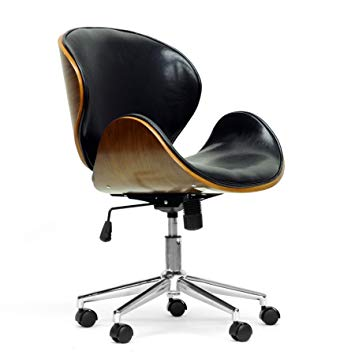chairs: (54, 28, 287, 344)
